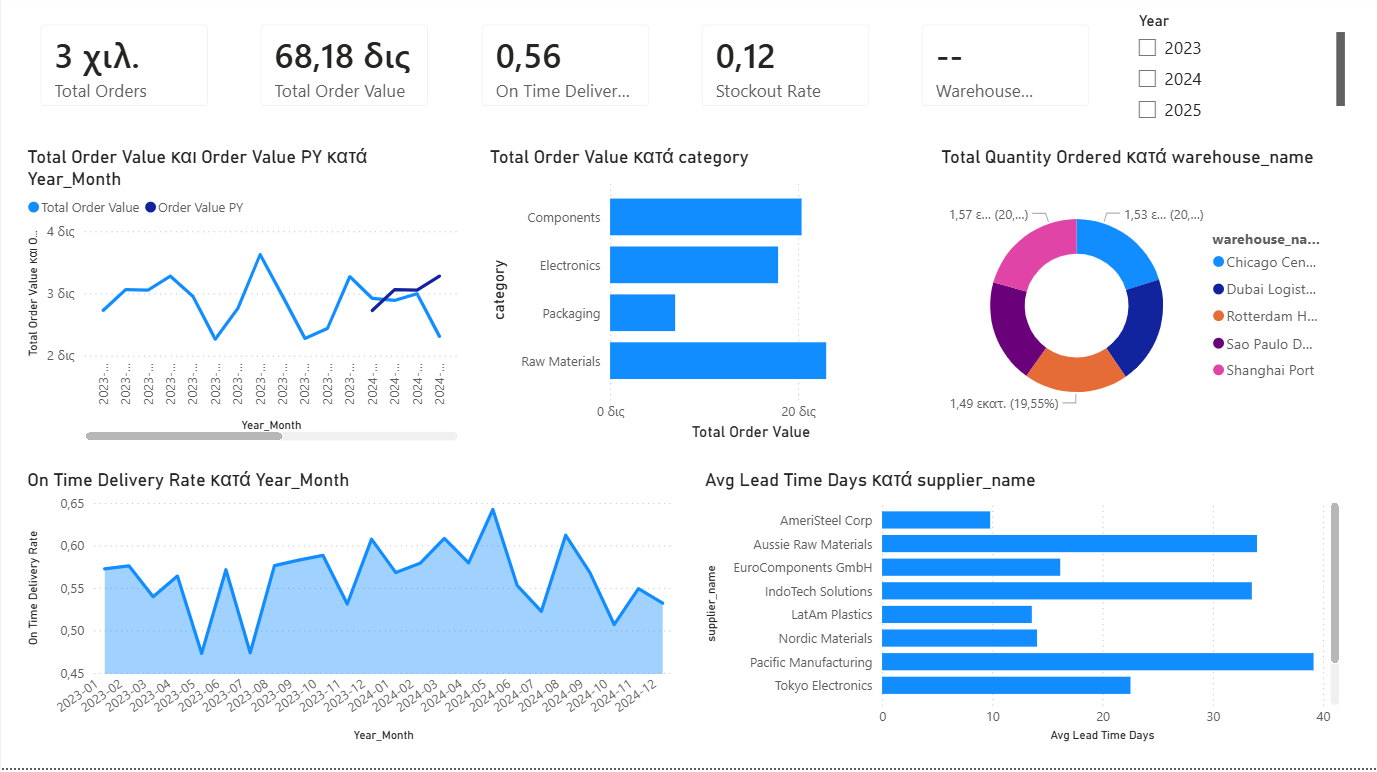

Layout of this report page (visuals, bound fields, positions):
{"tool":"powerbi","page":{"name":"Supply Chain KPIs","canvas":[1280,720],"ordinal":0},"visuals":[{"type":"cardVisual","fields":{"Data":["_Measures.Total Orders"]},"box":[20,10,190,110],"z":1000},{"type":"cardVisual","fields":{"Data":["_Measures.Total Order Value"]},"box":[225,10,190,110],"z":1000},{"type":"cardVisual","fields":{"Data":["_Measures.On Time Delivery Rate"]},"box":[430,10,190,110],"z":1000},{"type":"cardVisual","fields":{"Data":["_Measures.Stockout Rate"]},"box":[635,10,190,110],"z":1000},{"type":"cardVisual","fields":{"Data":["_Measures.Warehouse Utilization"]},"box":[840,10,190,110],"z":1000},{"type":"slicer","fields":{"Values":["Calendar.Year"]},"box":[1045,10,210,110],"z":1000},{"type":"lineChart","fields":{"Category":["Calendar.Year_Month"],"Y":["_Measures.Total Order Value","_Measures.Order Value PY"]},"box":[20,140,410,280],"z":1000},{"type":"clusteredBarChart","fields":{"Category":["DimProduct.category"],"Y":["_Measures.Total Order Value"]},"box":[450,140,400,280],"z":1000},{"type":"donutChart","fields":{"Category":["DimWarehouse.warehouse_name"],"Y":["_Measures.Total Quantity Ordered"]},"box":[870,140,370,280],"z":1000},{"type":"areaChart","fields":{"Category":["Calendar.Year_Month"],"Y":["_Measures.On Time Delivery Rate"]},"box":[20,440,610,260],"z":1000},{"type":"clusteredBarChart","fields":{"Category":["DimSupplier.supplier_name"],"Y":["_Measures.Avg Lead Time Days"]},"box":[650,440,600,260],"z":1000}]}

Visuals, with their boxes in screenshot pixels (x1, y1, x2, y2), scaled from the page's 1280x720 canvas onto the 1377x772 screenshot:
cardVisual - _Measures.Total Orders: 22,11,226,129
cardVisual - _Measures.Total Order Value: 242,11,446,129
cardVisual - _Measures.On Time Delivery Rate: 463,11,667,129
cardVisual - _Measures.Stockout Rate: 683,11,888,129
cardVisual - _Measures.Warehouse Utilization: 904,11,1108,129
slicer - Calendar.Year: 1124,11,1350,129
lineChart - Calendar.Year_Month x _Measures.Total Order Value: 22,150,463,450
clusteredBarChart - DimProduct.category x _Measures.Total Order Value: 484,150,914,450
donutChart - DimWarehouse.warehouse_name x _Measures.Total Quantity Ordered: 936,150,1334,450
areaChart - Calendar.Year_Month x _Measures.On Time Delivery Rate: 22,472,678,751
clusteredBarChart - DimSupplier.supplier_name x _Measures.Avg Lead Time Days: 699,472,1345,751
